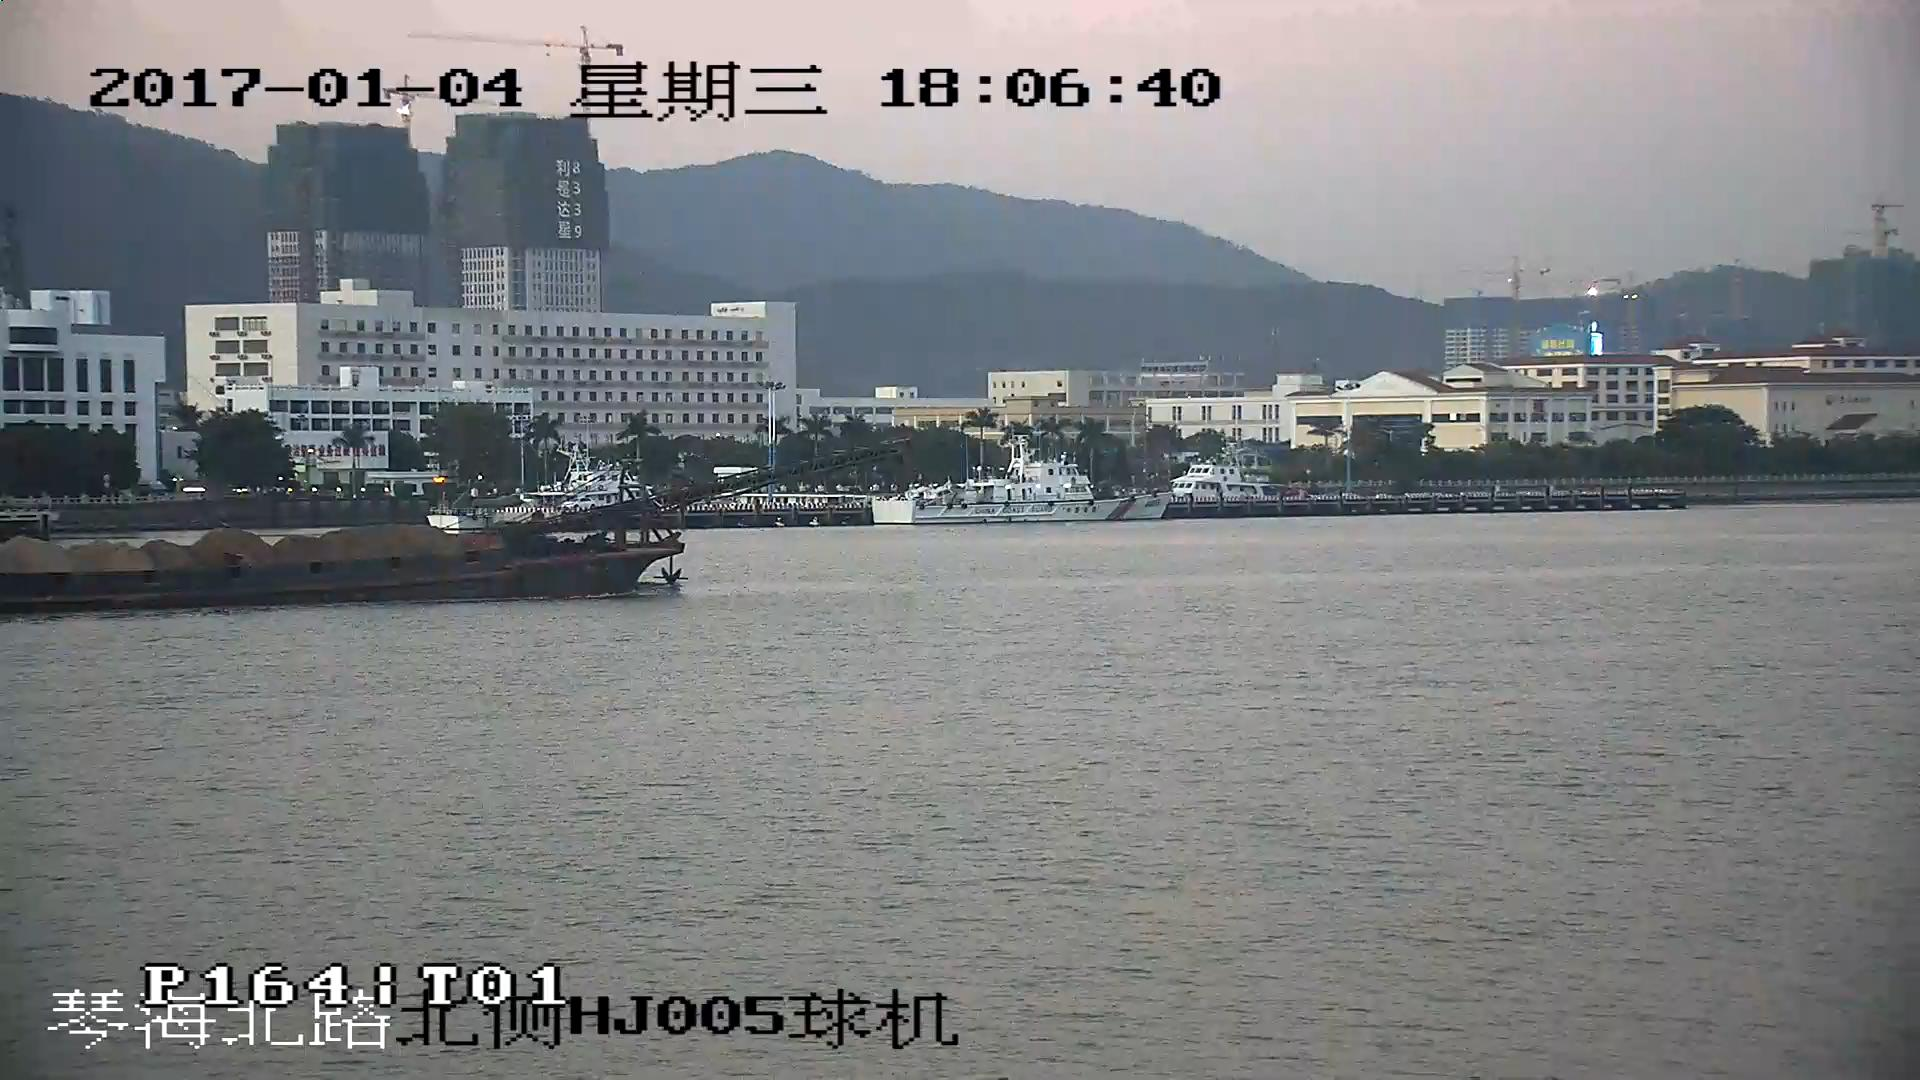ore carrier: (1, 447, 879, 607)
